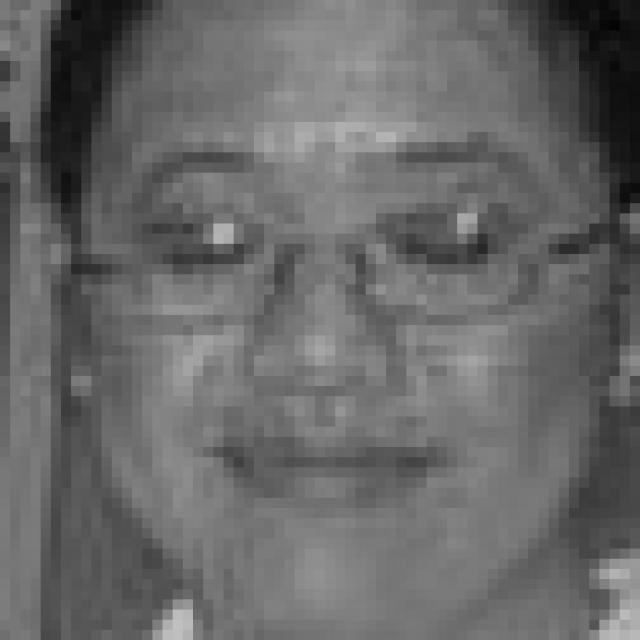real: (67, 34, 592, 624), (156, 174, 526, 300)
